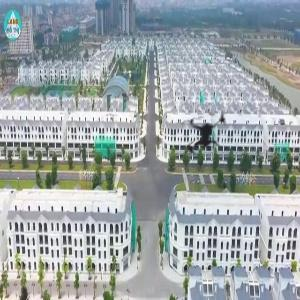drone: (155, 82, 256, 183)
